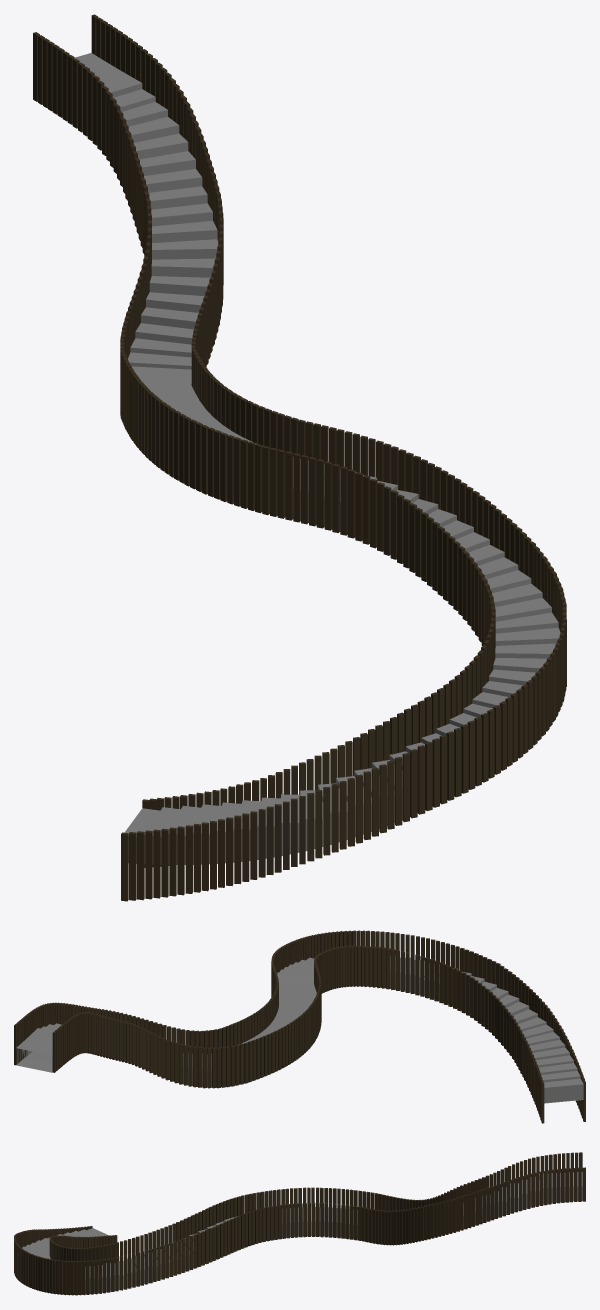
The model's file is SM_Hall_trading_stairs_ver3.fbx.
3 renders of one model, top to bottom at view 1: azimuth 30°, elevation 25°; view 2: azimuth 150°, elevation 25°; view 3: azimuth 270°, elevation 25°, orthographic. The views are drawn at different scales.
Visible parts, largest first — view 1: SM_Hall_trading_stairs_ver3; view 2: SM_Hall_trading_stairs_ver3; view 3: SM_Hall_trading_stairs_ver3.
Boxes of the visible parts, box(x1,y1,x2,y2) form: SM_Hall_trading_stairs_ver3: box(33, 14, 566, 901); SM_Hall_trading_stairs_ver3: box(14, 930, 585, 1123); SM_Hall_trading_stairs_ver3: box(14, 1152, 585, 1295).
Size of the model in its own units: 1954 by 1601 by 4048.
